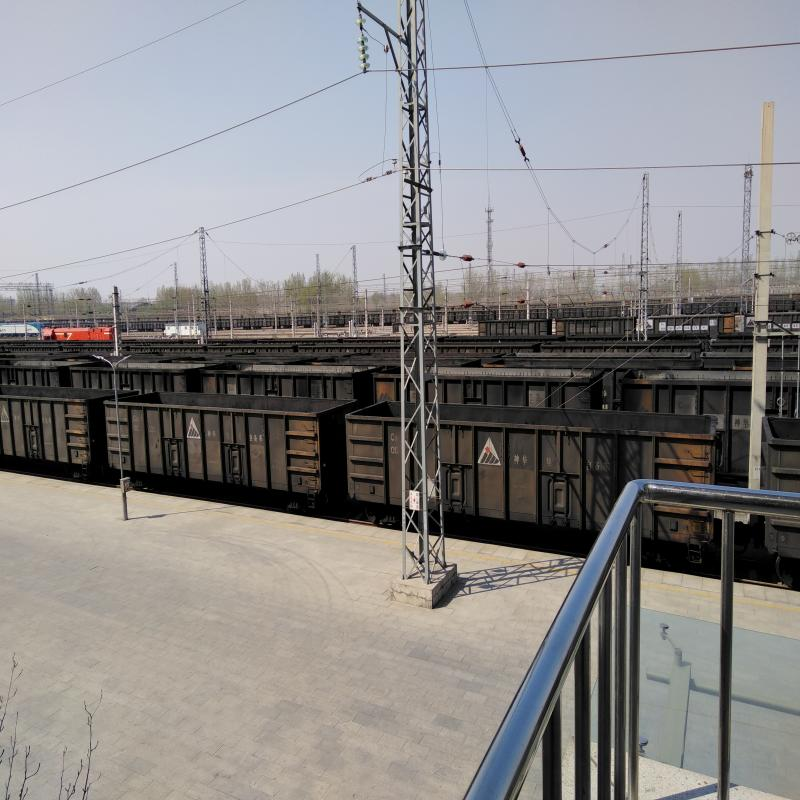train: (124, 390, 340, 505)
